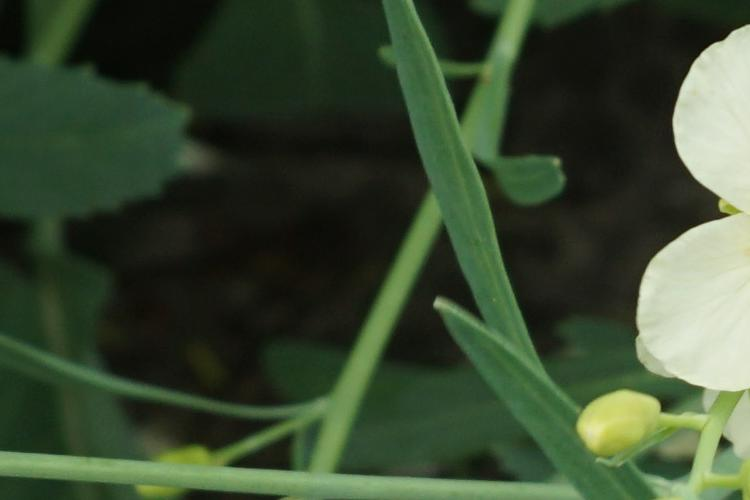bud: (560, 377, 682, 469)
white: (635, 36, 750, 398)
